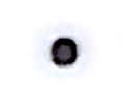cancer: (24, 18, 103, 82)
